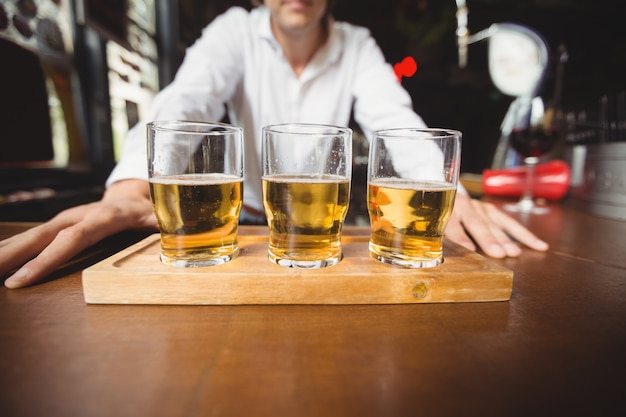alcohol: (143, 120, 245, 269), (259, 120, 352, 268), (368, 124, 462, 269)
